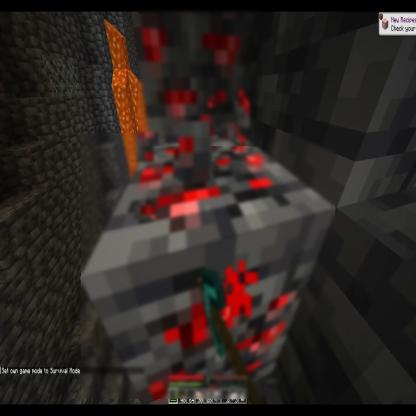redstone ore: (81, 133, 335, 399), (138, 3, 262, 146)
